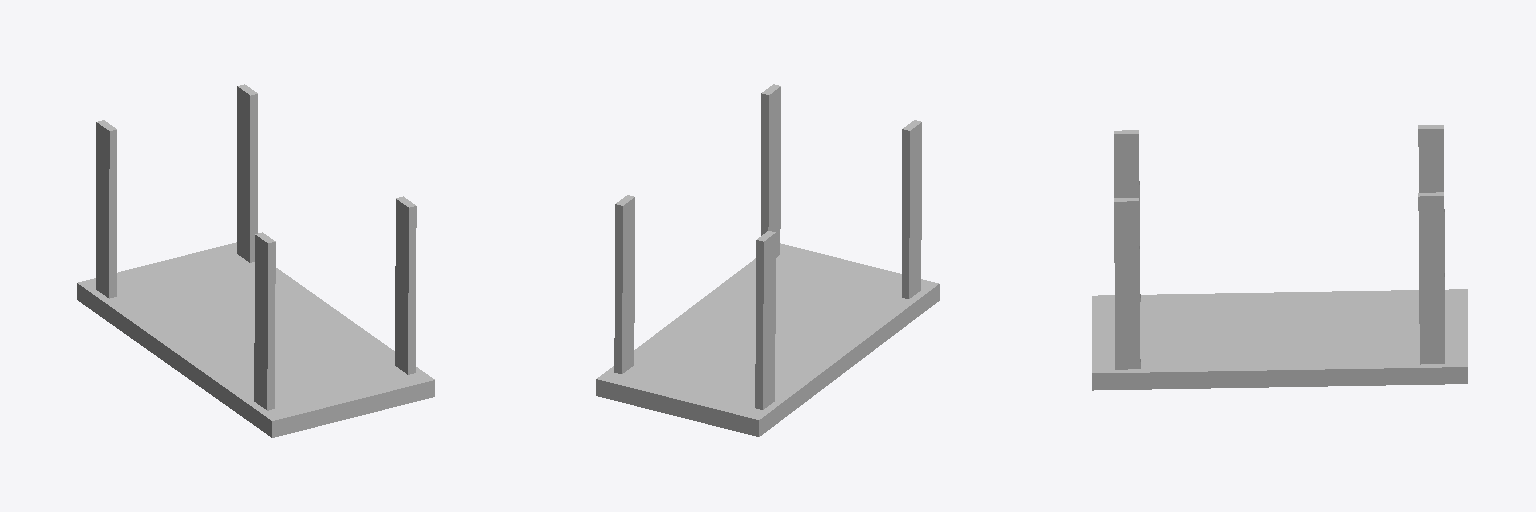
The model's file is table1.obj.
3 views of the same model, side by side, from view 1: azimuth 30°, elevation 25°; view 2: azimuth 150°, elevation 25°; view 3: azimuth 270°, elevation 25° (orthographic).
Visible parts, largest first — view 1: Cube; view 2: Cube; view 3: Cube.
Boxes of the visible parts, x1=… form: Cube: x1=77, y1=84, x2=434, y2=437; Cube: x1=596, y1=84, x2=939, y2=436; Cube: x1=1092, y1=125, x2=1467, y2=390.
Bounding box in the file's own units: 6.13 × 6.5 × 11.72.